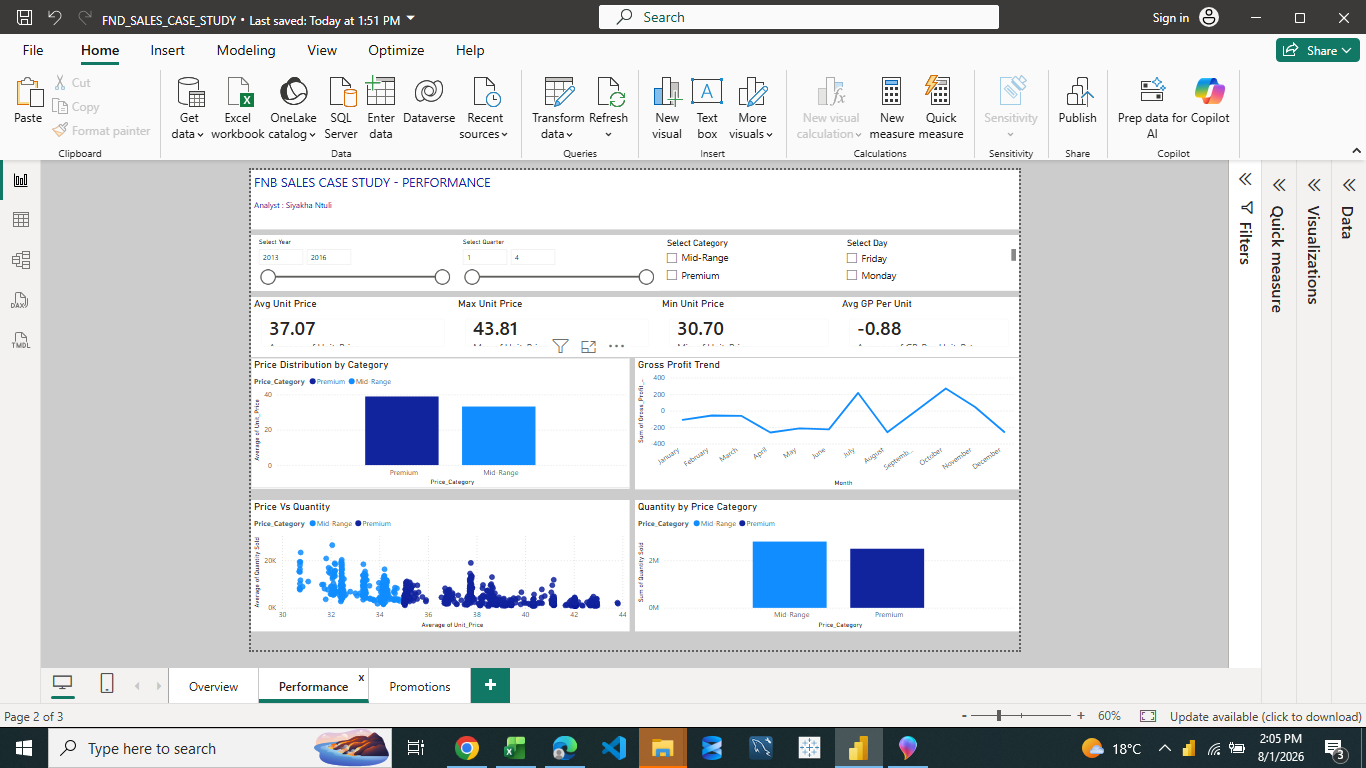

The dashboard page shown, as its layout file describes it:
{"tool":"powerbi","page":{"name":"Performance","canvas":[1280,800],"ordinal":1},"visuals":[{"type":"textbox","box":[0,0,1280,98.8],"z":0},{"type":"slicer","fields":{"Values":["FNB_POWER__BI (1).Year"]},"box":[0,108.8,340,92.5],"z":1},{"type":"slicer","fields":{"Values":["FNB_POWER__BI (1).Quarter"]},"box":[340,108.8,340,92.5],"z":2},{"type":"slicer","fields":{"Values":["FNB_POWER__BI (1).Price_Category"]},"box":[680,108.8,300,92.5],"z":3},{"type":"slicer","fields":{"Values":["FNB_POWER__BI (1).Day_Name"]},"box":[980,108.8,300,92.5],"z":4},{"type":"cardVisual","title":"Avg Unit Price","fields":{"Data":["Avg(FNB_POWER__BI (1).Unit_Price)"]},"box":[0,211.2,340,100],"z":5},{"type":"cardVisual","title":"Max Unit Price","fields":{"Data":["Max(FNB_POWER__BI (1).Unit_Price)"]},"box":[340,211.2,340,100],"z":6},{"type":"cardVisual","title":"Min Unit Price","fields":{"Data":["Min(FNB_POWER__BI (1).Unit_Price)"]},"box":[680,211.2,300,100],"z":7},{"type":"cardVisual","title":"Avg GP Per Unit","fields":{"Data":["Avg(FNB_POWER__BI (1).GP_Per_Unit_Pct)"]},"box":[980,211.2,300,100],"z":8},{"type":"columnChart","title":"Price Distribution by Category","fields":{"Category":["FNB_POWER__BI (1).Price_Category"],"Y":["Avg(FNB_POWER__BI (1).Unit_Price)"],"Series":["FNB_POWER__BI (1).Price_Category"]},"box":[0,312.5,631.2,217.5],"z":9},{"type":"lineChart","title":"Gross Profit Trend","fields":{"Category":["FNB_POWER__BI (1).Date.Variation.Date Hierarchy.Month"],"Y":["Sum(FNB_POWER__BI (1).Gross_Profit_Pct)"]},"box":[640,312.5,640,218.8],"z":10},{"type":"columnChart","title":"Quantity by Price Category","fields":{"Category":["FNB_POWER__BI (1).Price_Category"],"Y":["Sum(FNB_POWER__BI (1).Quantity Sold)"],"Series":["FNB_POWER__BI (1).Price_Category"]},"box":[640,550,640,218.8],"z":11},{"type":"scatterChart","title":"Price Vs Quantity","fields":{"Y":["Avg(FNB_POWER__BI (1).Quantity Sold)"],"X":["Avg(FNB_POWER__BI (1).Unit_Price)"],"Category":["FNB_POWER__BI (1).Sales"],"Series":["FNB_POWER__BI (1).Price_Category"]},"box":[0,550,631.2,218.8],"z":12}]}

Visuals, with their boxes on the page's 1280x800 design canvas (x1, y1, x2, y2). These are canvas units, not pixel positions in the 1366x768 screenshot, which may show the page scaled, cropped or inside an application window:
textbox: bbox=(0, 0, 1280, 99)
slicer - FNB_POWER__BI (1).Year: bbox=(0, 109, 340, 201)
slicer - FNB_POWER__BI (1).Quarter: bbox=(340, 109, 680, 201)
slicer - FNB_POWER__BI (1).Price_Category: bbox=(680, 109, 980, 201)
slicer - FNB_POWER__BI (1).Day_Name: bbox=(980, 109, 1280, 201)
"Avg Unit Price" cardVisual: bbox=(0, 211, 340, 311)
"Max Unit Price" cardVisual: bbox=(340, 211, 680, 311)
"Min Unit Price" cardVisual: bbox=(680, 211, 980, 311)
"Avg GP Per Unit" cardVisual: bbox=(980, 211, 1280, 311)
"Price Distribution by Category" columnChart: bbox=(0, 312, 631, 530)
"Gross Profit Trend" lineChart: bbox=(640, 312, 1280, 531)
"Quantity by Price Category" columnChart: bbox=(640, 550, 1280, 769)
"Price Vs Quantity" scatterChart: bbox=(0, 550, 631, 769)
